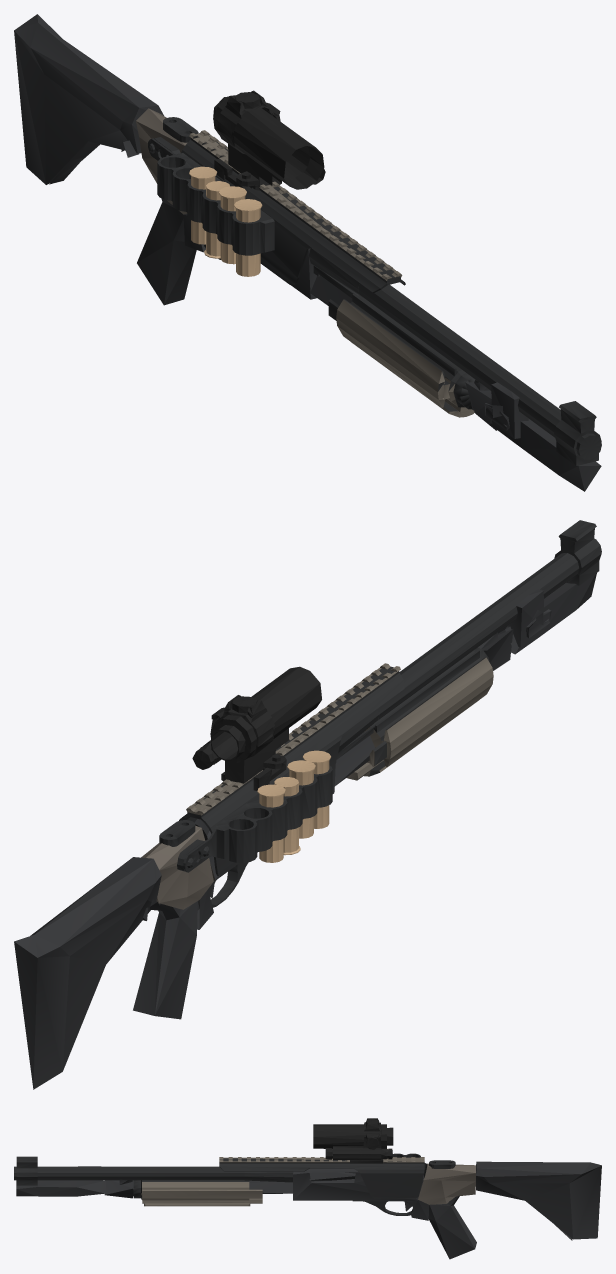
Rendered from drabavikP (2).fbx.
The picture shows the model from 3 angles, top to bottom: view 1: azimuth 30°, elevation 25°; view 2: azimuth 150°, elevation 25°; view 3: azimuth 270°, elevation 25°; orthographic projection. The views are drawn at different scales.
Parts seen in each view (by area): view 1: phukien.001; view 2: phukien.001; view 3: phukien.001.
Part boxes in pixels (x1,y1,x2,y2): phukien.001: (14, 14, 601, 491); phukien.001: (14, 520, 601, 1089); phukien.001: (14, 1118, 601, 1259).
Size of the model in its own units: 218 by 656 by 2570.
1 material, 1 textured.
